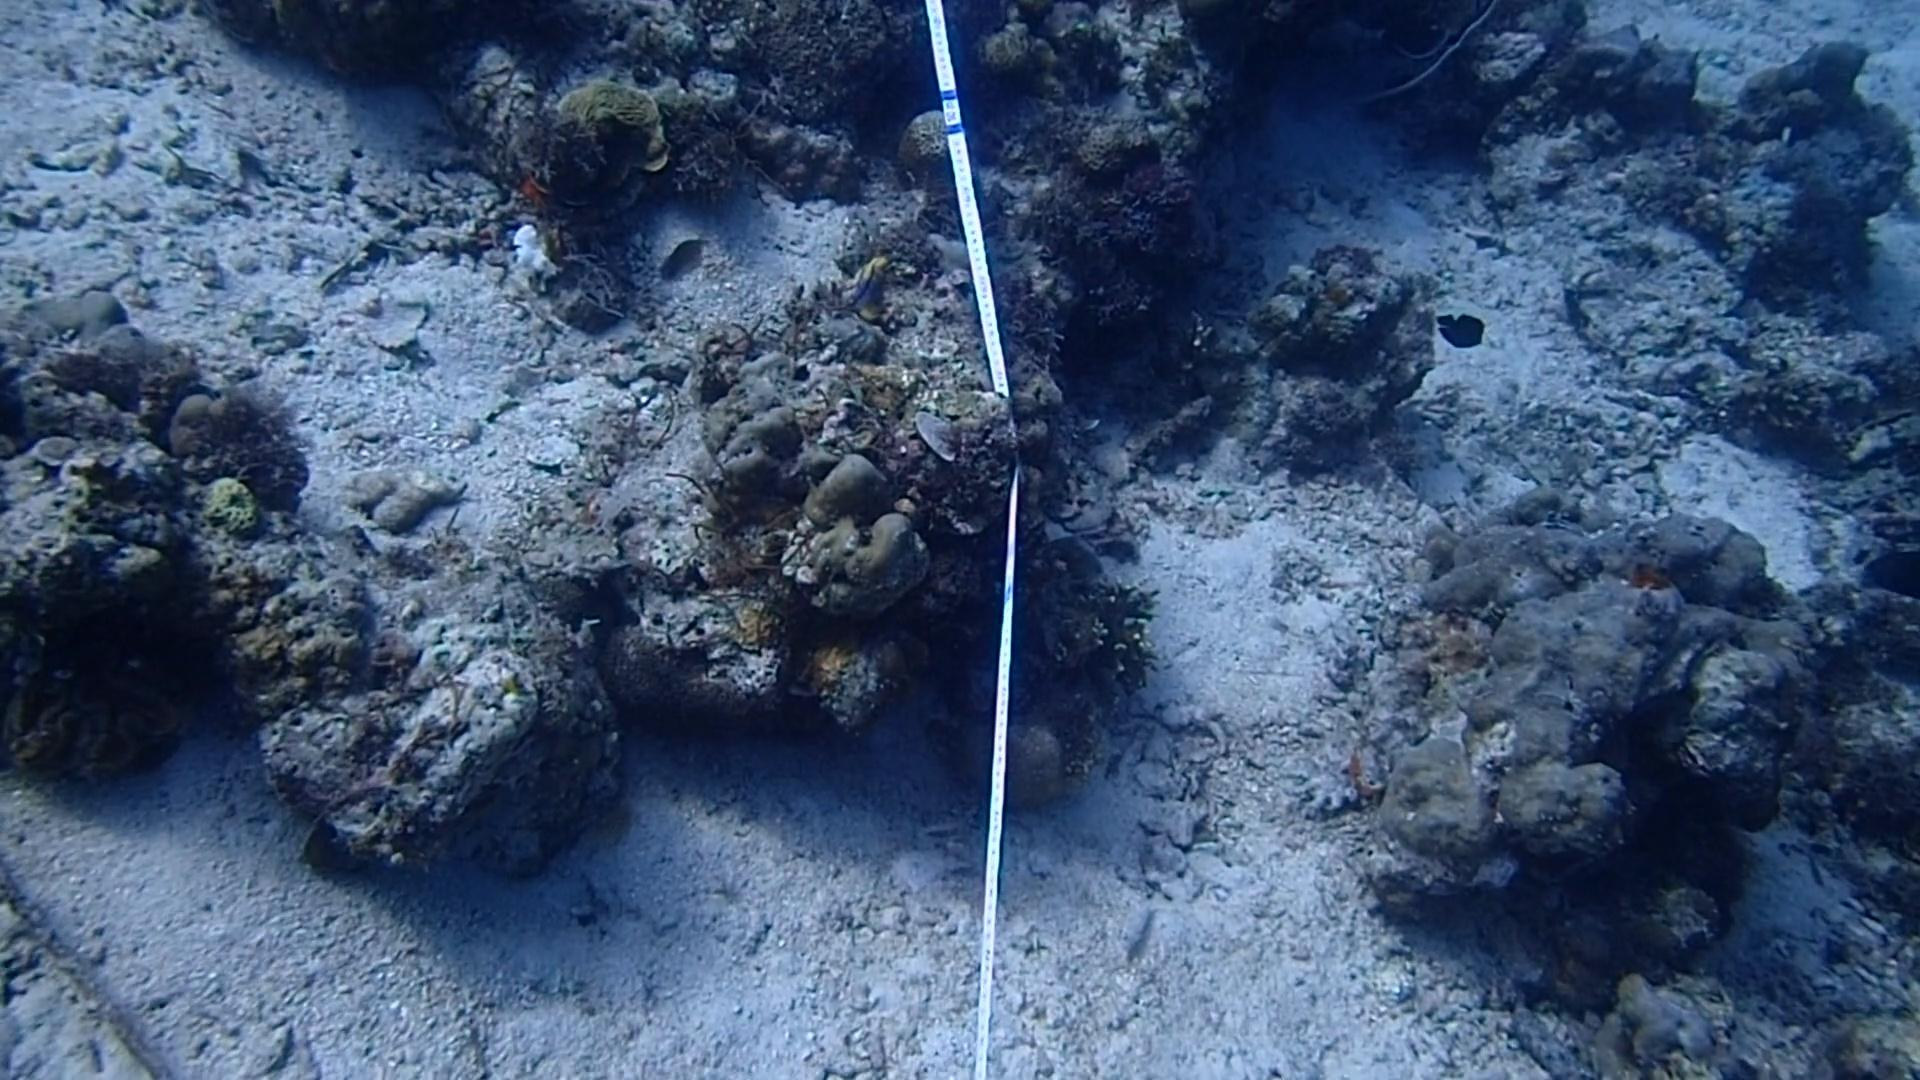Dark Fish: (1854, 535, 1920, 616), (1425, 297, 1494, 363)
Light Fish: (649, 232, 708, 285)
